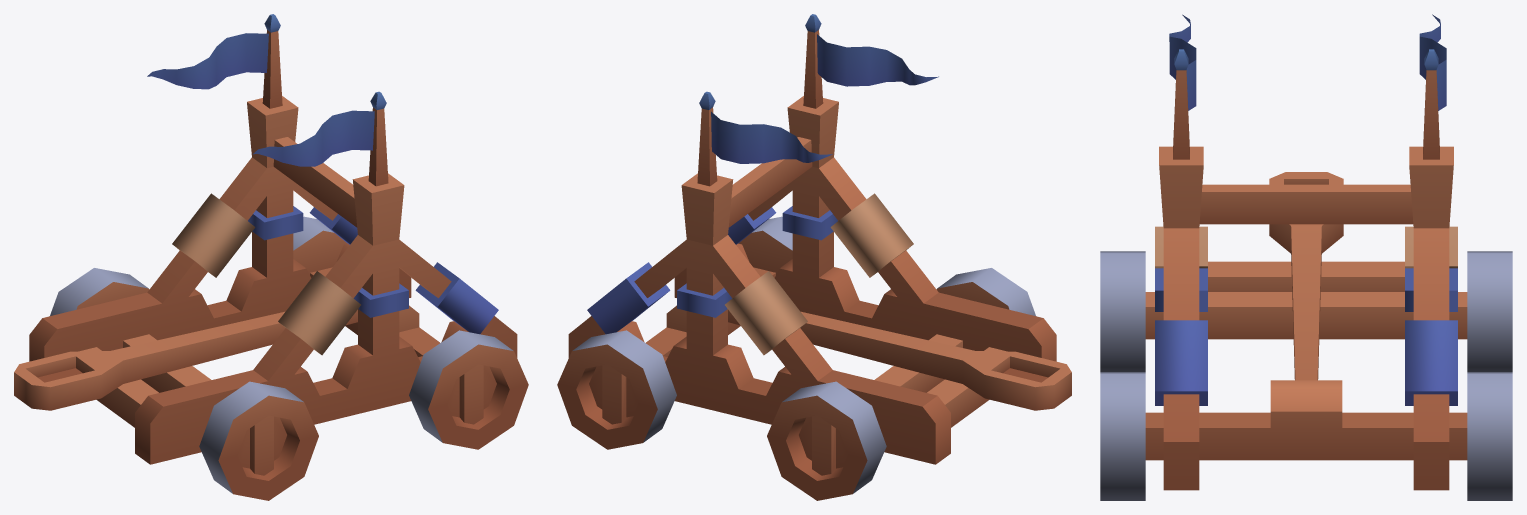
File: siege-catapult.glb
3 renders of one model, left to right at view 1: azimuth 30°, elevation 25°; view 2: azimuth 150°, elevation 25°; view 3: azimuth 270°, elevation 25°, orthographic. The views are drawn at different scales.
Parts seen in each view (by area): view 1: siege-catapult, wheel (×4), catapult; view 2: siege-catapult, wheel (×4), catapult; view 3: siege-catapult, wheel (×4), catapult.
Boxes of the visible parts, x1,y1,x2,y2 form: siege-catapult: [29, 14, 517, 464]; wheel (×4): [50, 216, 528, 500]; catapult: [14, 309, 357, 410]; siege-catapult: [568, 14, 1056, 464]; wheel (×4): [557, 216, 1035, 500]; catapult: [728, 309, 1071, 410]; siege-catapult: [1145, 14, 1467, 490]; wheel (×4): [1100, 251, 1512, 500]; catapult: [1269, 172, 1343, 380].
Size of the model in its own units: 1.73 by 1.33 by 1.21.
